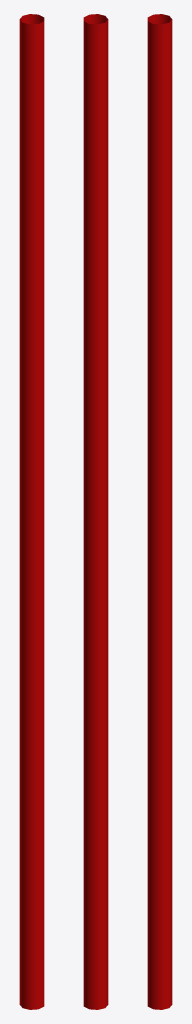
The model's file is Attic_Cable_01_LP_Splines_3.glb.
3 views of the same model, side by side, from view 1: azimuth 30°, elevation 25°; view 2: azimuth 210°, elevation 25°; view 3: azimuth 330°, elevation 25° (orthographic).
Visible parts, largest first — view 1: Attic_Cable_01_LP_Splines_3; view 2: Attic_Cable_01_LP_Splines_3; view 3: Attic_Cable_01_LP_Splines_3.
Boxes of the visible parts, x1,y1,x2,y2 form: Attic_Cable_01_LP_Splines_3: (19, 14, 44, 1009); Attic_Cable_01_LP_Splines_3: (83, 14, 108, 1009); Attic_Cable_01_LP_Splines_3: (147, 14, 172, 1009).
Size of the model in its own units: 0.0202 by 0.8806 by 0.0199.
